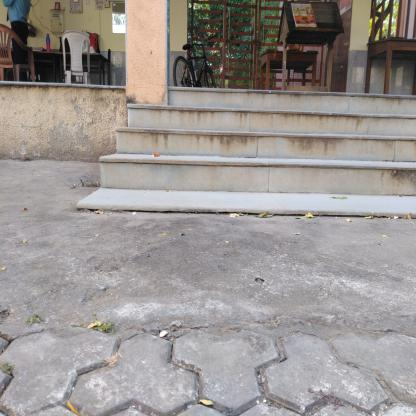stairs: (169, 84, 416, 218)
